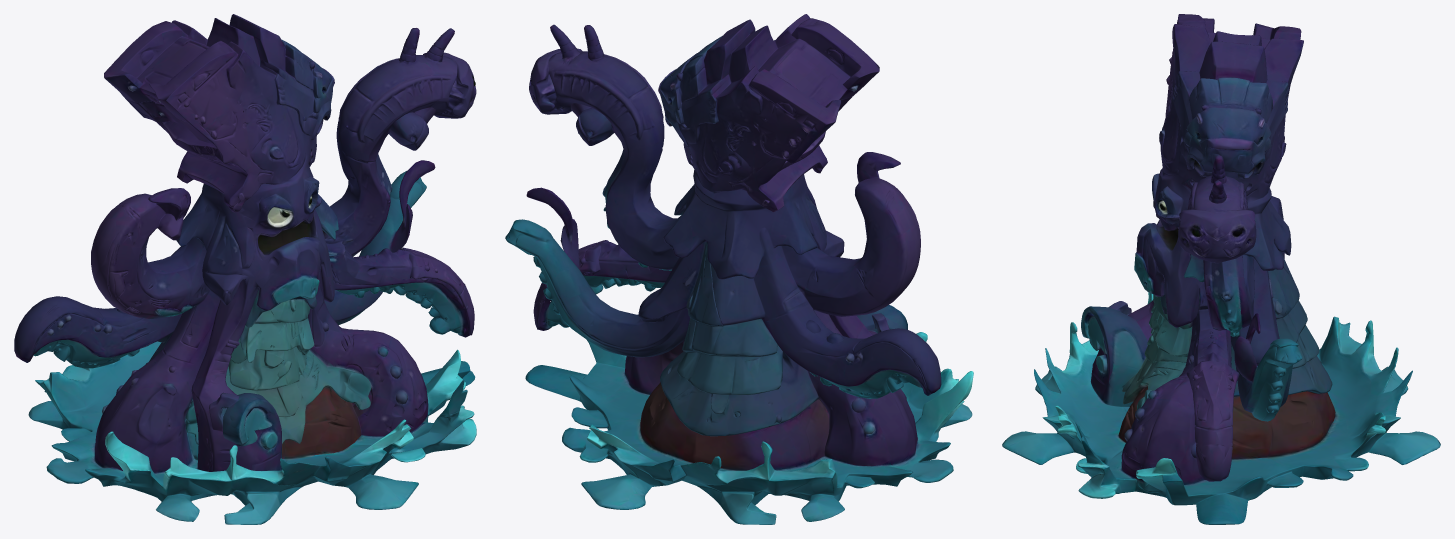
The model's file is kraken.glb.
3 views of the same model, side by side, from view 1: azimuth 30°, elevation 25°; view 2: azimuth 150°, elevation 25°; view 3: azimuth 270°, elevation 25° (orthographic). The views are drawn at different scales.
Bounding box in the file's own units: 0.9787 × 0.8963 × 0.9014.
Materials: 1 (1 with a texture image).
